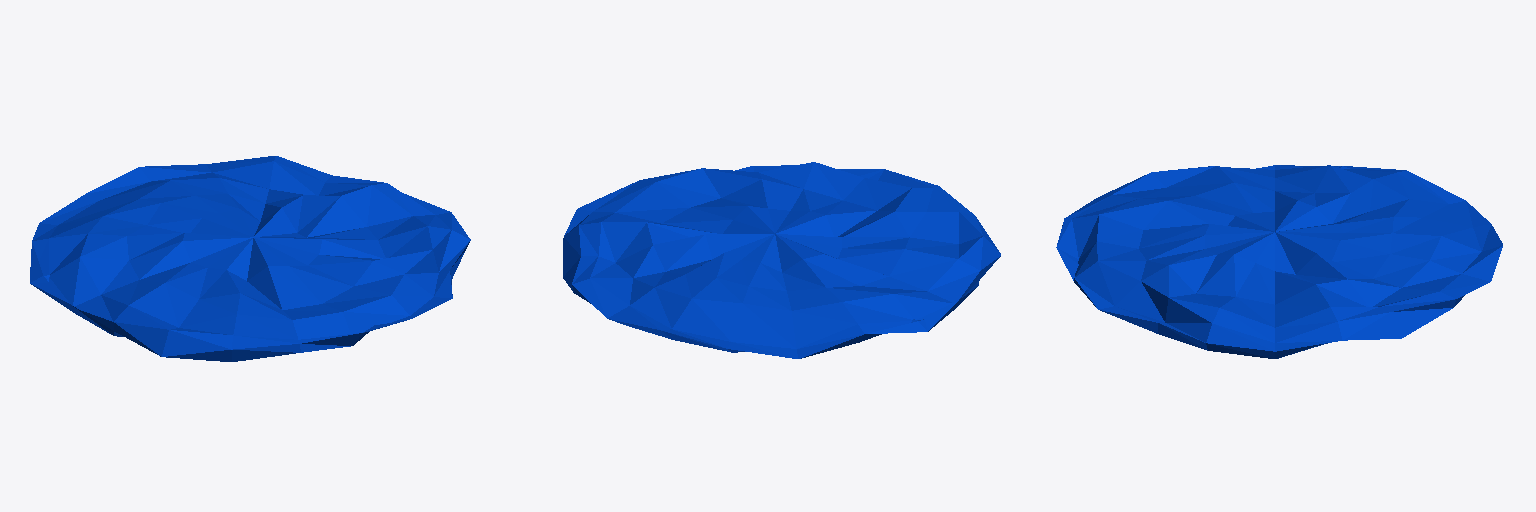
The model's file is mar.obj.
3 renders of one model, left to right at view 1: azimuth 30°, elevation 25°; view 2: azimuth 150°, elevation 25°; view 3: azimuth 270°, elevation 25°, orthographic.
Parts seen in each view (by area): view 1: Landscape.1; view 2: Landscape.1; view 3: Landscape.1.
Part boxes in pixels (bbox=[...]): Landscape.1: bbox=[30, 156, 470, 361]; Landscape.1: bbox=[563, 162, 1000, 358]; Landscape.1: bbox=[1056, 165, 1502, 358].
Size of the model in its own units: 751 by 89.58 by 753.